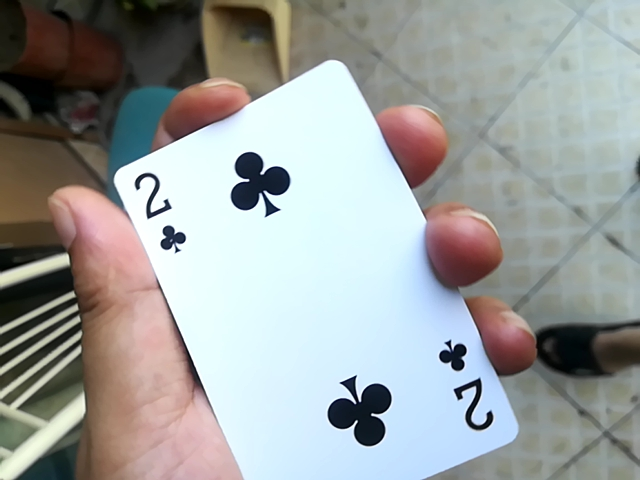mh 2: (102, 52, 491, 480)
